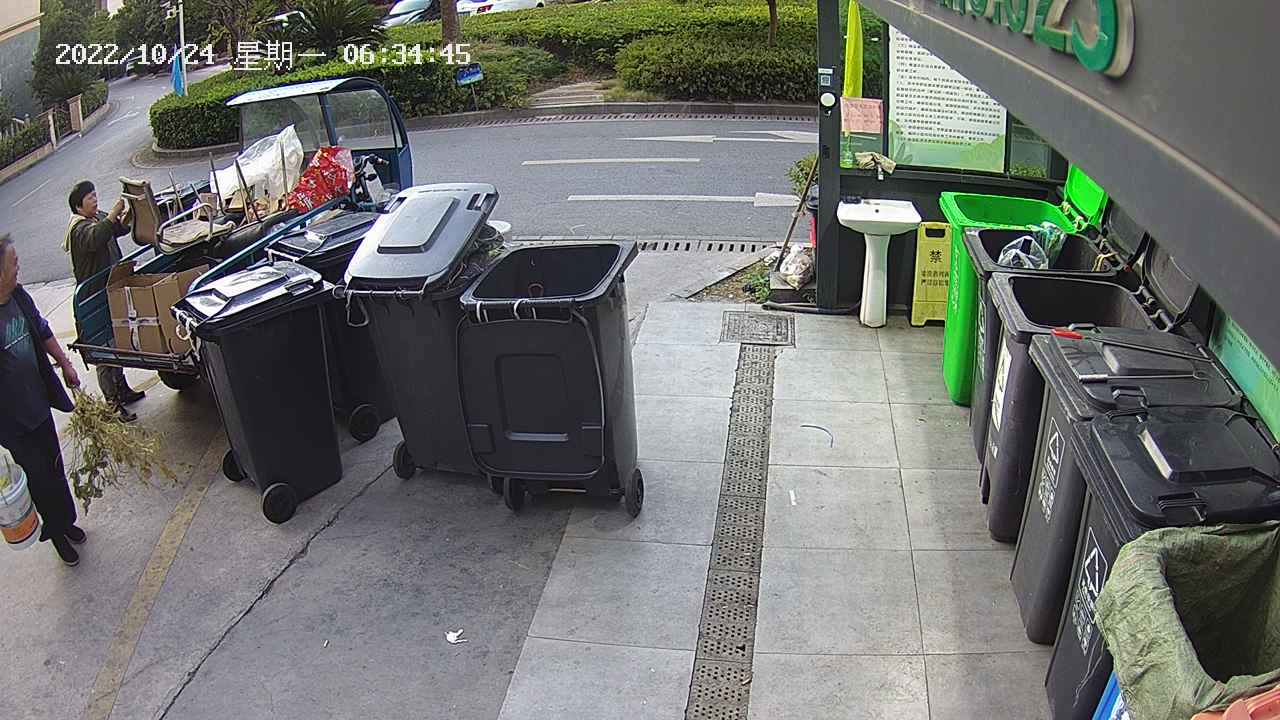person: (1, 231, 90, 570), (64, 174, 152, 427)
youtong: (1, 448, 44, 551)
